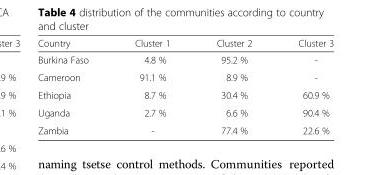table: (37, 37, 333, 135)
table column: (192, 37, 274, 135), (111, 37, 192, 135), (37, 37, 111, 135), (274, 37, 333, 135)
table column header: (37, 37, 333, 50)
table row: (37, 50, 333, 68), (37, 85, 333, 103), (37, 103, 333, 121), (37, 68, 333, 85), (37, 121, 333, 135), (37, 37, 333, 50)
